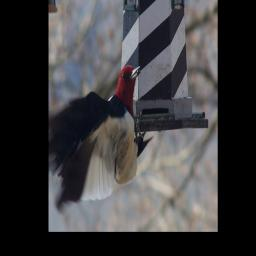Woodpecker: (49, 57, 150, 207)
